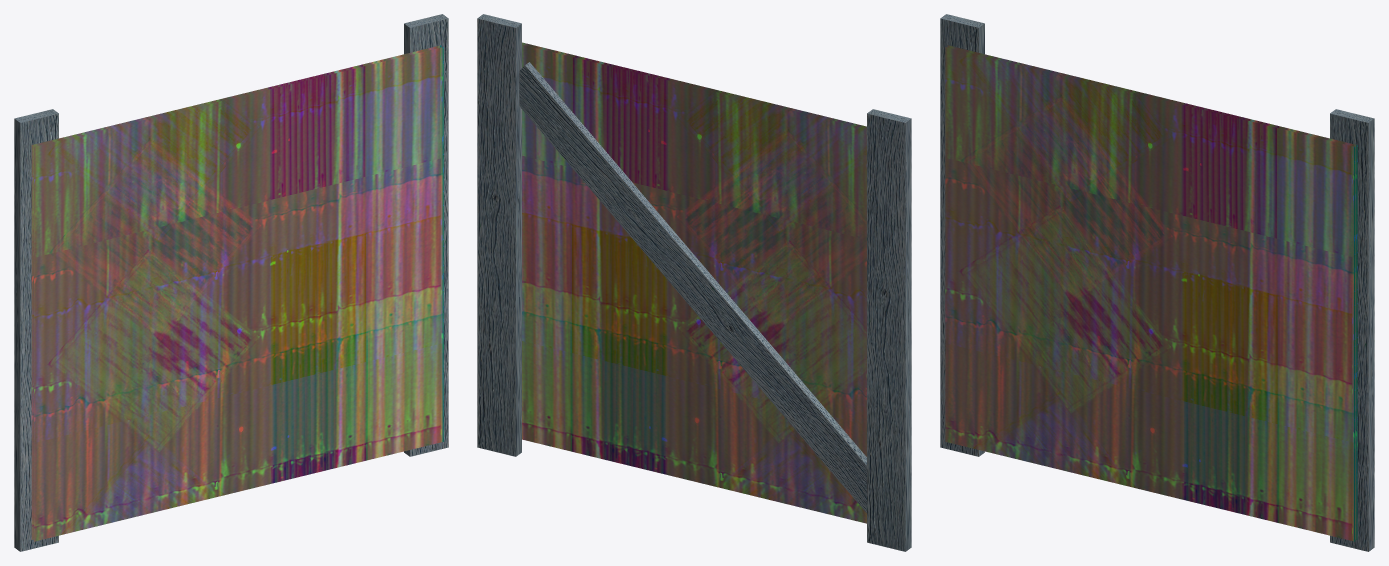
File: Wall2.FBX
The picture shows the model from 3 angles, left to right: view 1: azimuth 30°, elevation 25°; view 2: azimuth 150°, elevation 25°; view 3: azimuth 330°, elevation 25°; orthographic projection.
Visible parts, largest first — view 1: sheetmetal, board (×2); view 2: sheetmetal, board (×3); view 3: sheetmetal, board (×2).
Part boxes in pixels (x1,y1,x2,y2): sheetmetal: (31, 45, 443, 541); board (×2): (14, 14, 448, 551); sheetmetal: (522, 42, 866, 523); board (×3): (477, 14, 911, 551); sheetmetal: (945, 45, 1357, 541); board (×2): (940, 14, 1374, 551).
Bounding box in the file's own units: 1.9 × 1.81 × 0.079.
2 materials, 2 textured.
